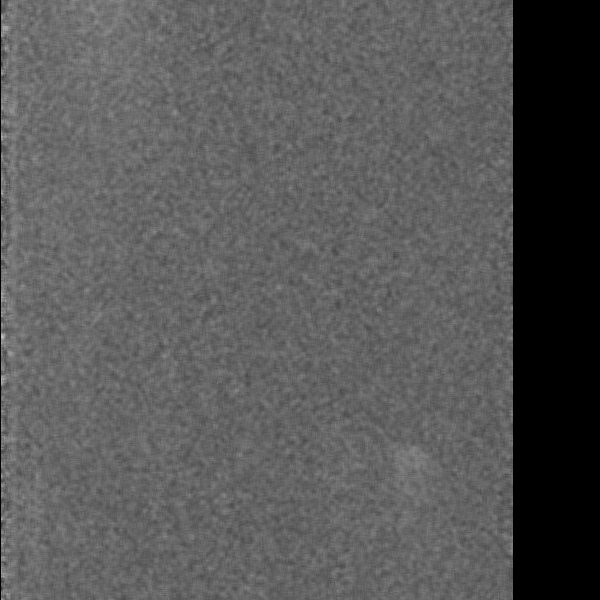spark: (390, 438, 425, 478), (1, 16, 13, 41), (83, 1, 97, 16)
